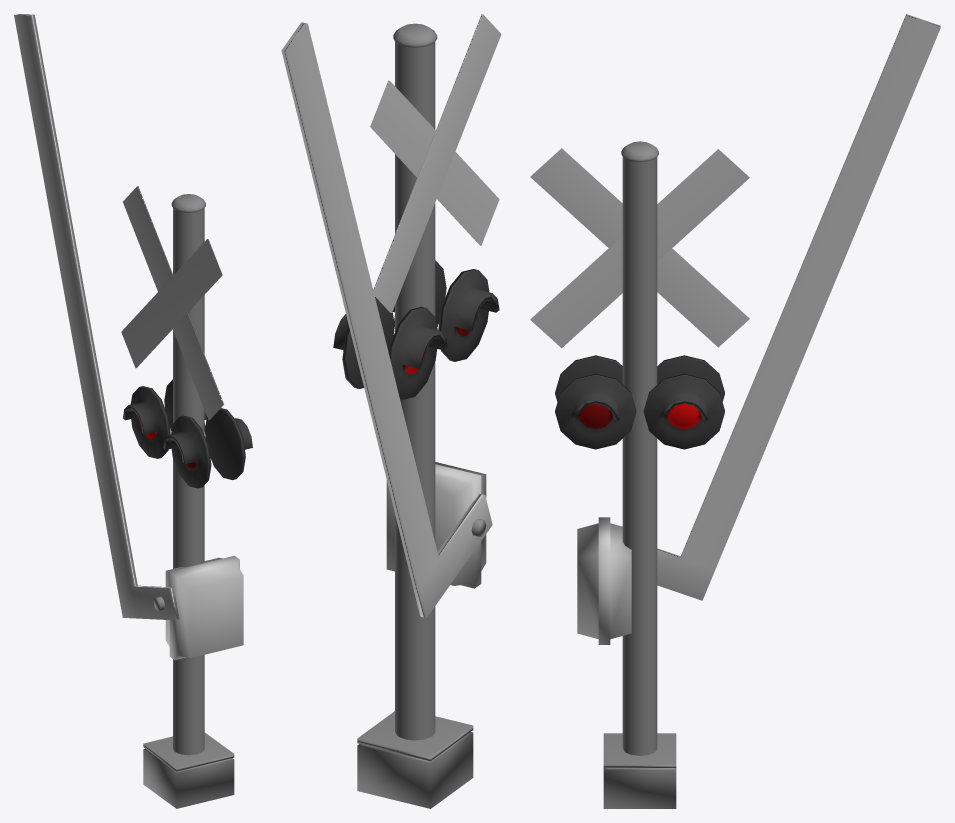
Rendered from RailroadCrossing 1.fbx.
3 renders of one model, left to right at view 1: azimuth 30°, elevation 25°; view 2: azimuth 150°, elevation 25°; view 3: azimuth 270°, elevation 25°, orthographic. The views are drawn at different scales.
Visible parts, largest first — view 1: Post, Arm, Lights; view 2: Post, Arm, Lights; view 3: Post, Arm, Lights.
Part boxes in pixels (x1,y1,x2,y2): Post: [121, 186, 243, 808]; Arm: [14, 14, 179, 620]; Lights: [123, 379, 252, 488]; Post: [357, 14, 501, 808]; Arm: [281, 22, 492, 617]; Lights: [333, 260, 499, 399]; Post: [530, 141, 749, 808]; Arm: [657, 14, 940, 600]; Lights: [555, 355, 724, 449].
Bounding box in the file's own units: 21.3 × 189 × 92.58.
